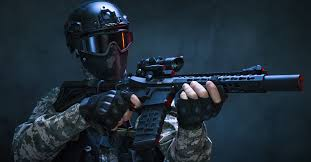gun: (136, 55, 302, 145)
